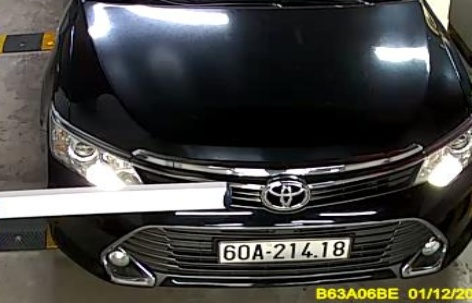plate: (215, 230, 355, 264)
